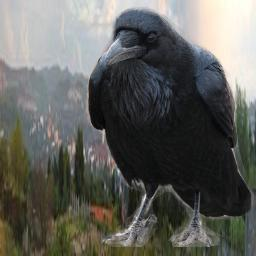Crow: (85, 6, 254, 247)
